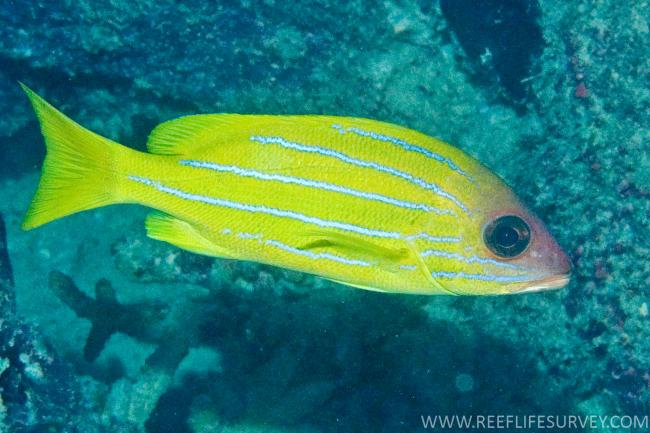fish: (16, 79, 571, 297)
